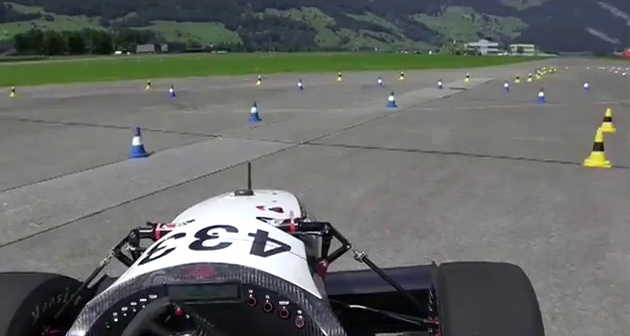Cone: (582, 126, 611, 168), (126, 126, 151, 160), (599, 106, 620, 135), (247, 101, 263, 123), (385, 90, 399, 109)
